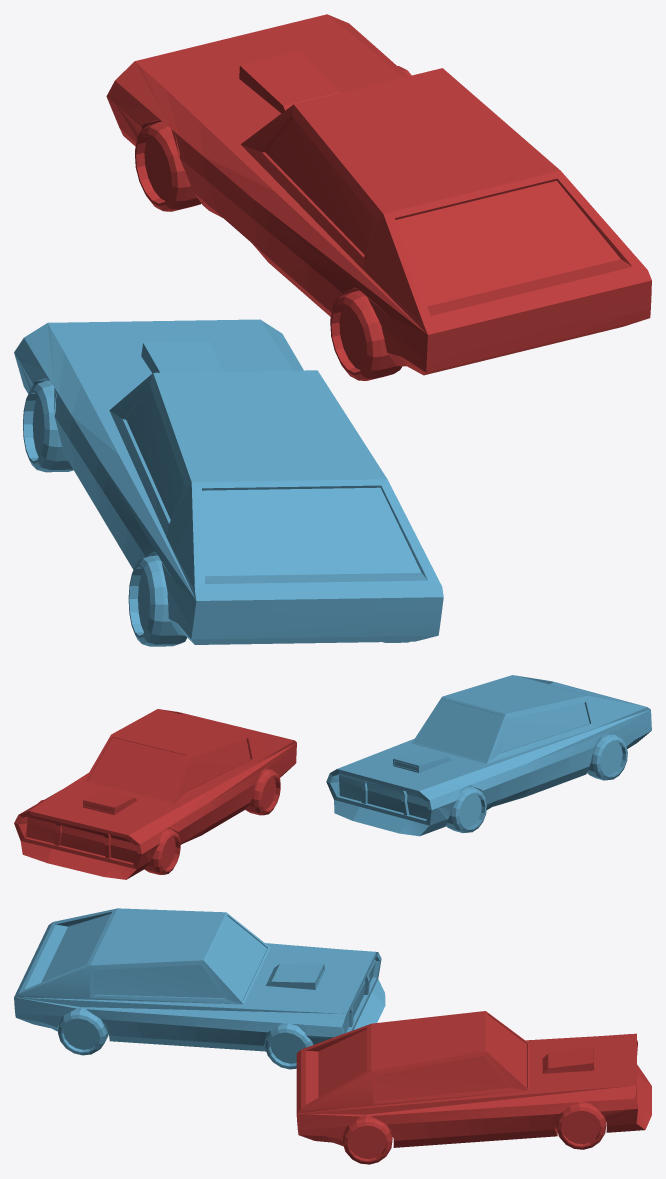
Rendered from auto2 (3).obj.
The picture shows the model from 3 angles, top to bottom: view 1: azimuth 30°, elevation 25°; view 2: azimuth 150°, elevation 25°; view 3: azimuth 270°, elevation 25°; orthographic projection. The views are drawn at different scales.
Parts seen in each view (by area): view 1: auto2 (3), auto2 (4); view 2: auto2 (4), auto2 (3); view 3: auto2 (4), auto2 (3).
Part boxes in pixels (x1,y1,x2,y2): auto2 (3): [106, 14, 651, 380]; auto2 (4): [14, 319, 443, 646]; auto2 (4): [326, 675, 651, 836]; auto2 (3): [14, 709, 296, 879]; auto2 (4): [14, 908, 385, 1069]; auto2 (3): [296, 1011, 651, 1164].
Bounding box in the file's own units: 20.05 × 5.58 × 28.74.
